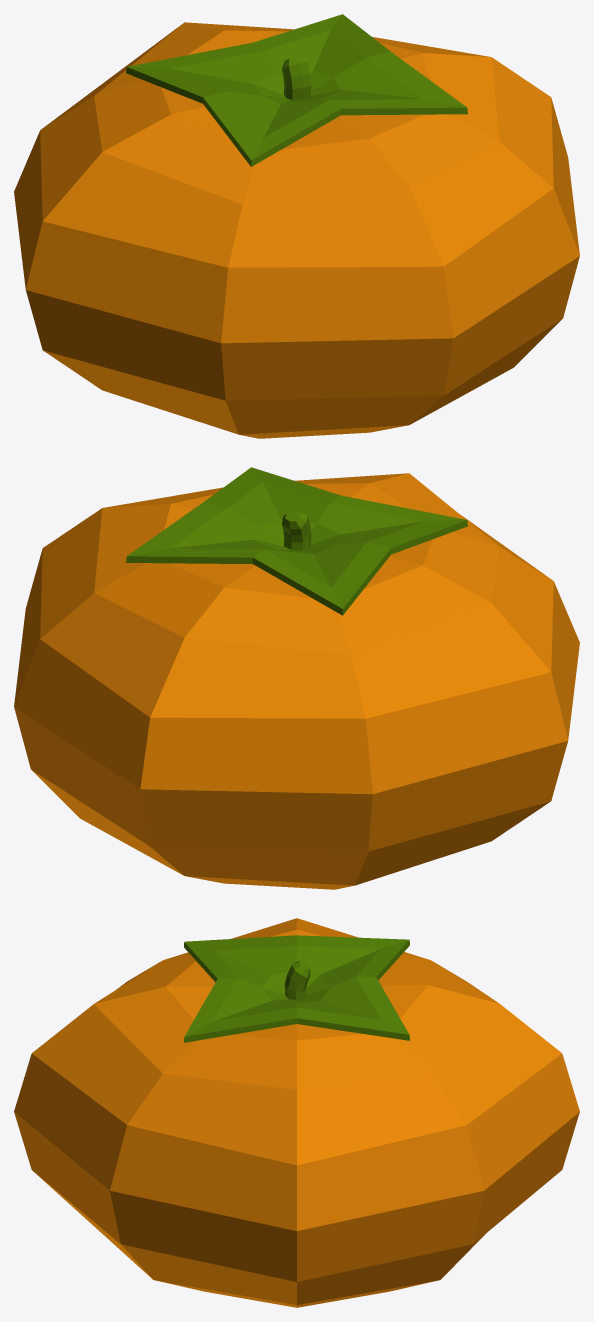
File: Persimmon_1_JBischer.fbx
The picture shows the model from 3 angles, top to bottom: view 1: azimuth 30°, elevation 25°; view 2: azimuth 150°, elevation 25°; view 3: azimuth 270°, elevation 25°; orthographic projection. The views are drawn at different scales.
Parts seen in each view (by area): view 1: Sphere; view 2: Sphere; view 3: Sphere.
Part boxes in pixels (x1,y1,x2,y2): Sphere: [14, 14, 579, 438]; Sphere: [14, 467, 579, 889]; Sphere: [14, 918, 579, 1307].
Bounding box in the file's own units: 165 × 97.1 × 165.
